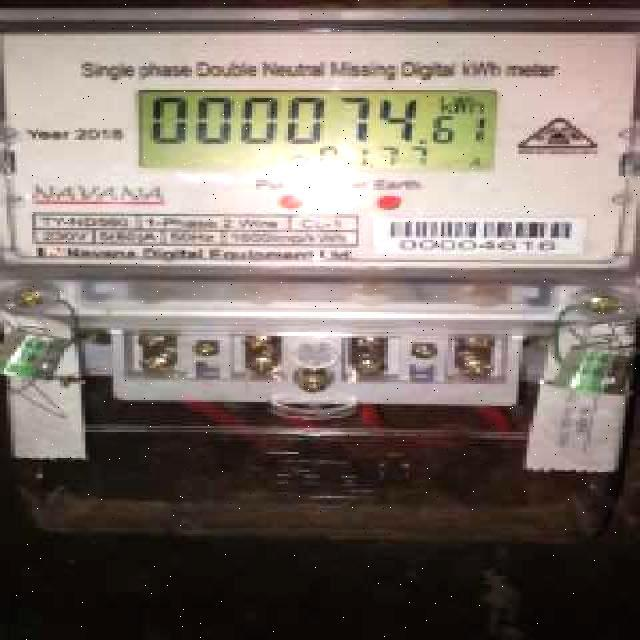LCD: (135, 79, 502, 179)
